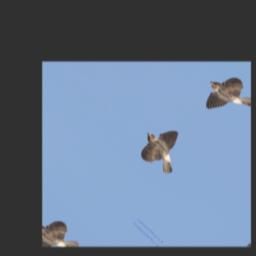Swallow: (128, 117, 199, 179)
